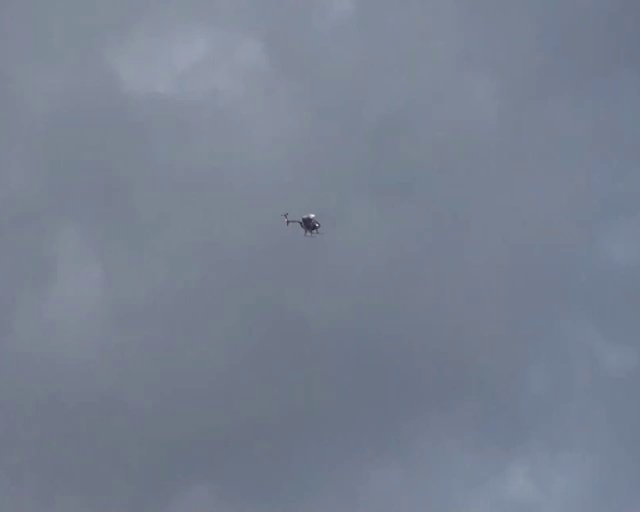HELICOPTER: (281, 211, 321, 236)
